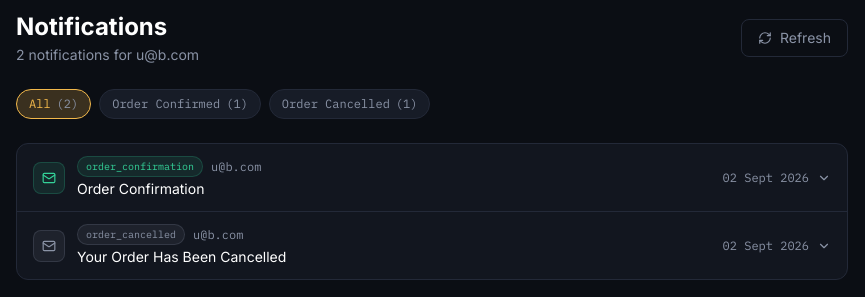
Test case: NotificationsPage — Filter tabs › filters notifications by type when tab is clicked
Expected: the text "Order Confirmation" is shown, [77,180,204,197]
Note: Click "Order Cancelled" filter
Click the button "Order Cancelled(1)". click: (350, 104)
box: [269,89,430,119]
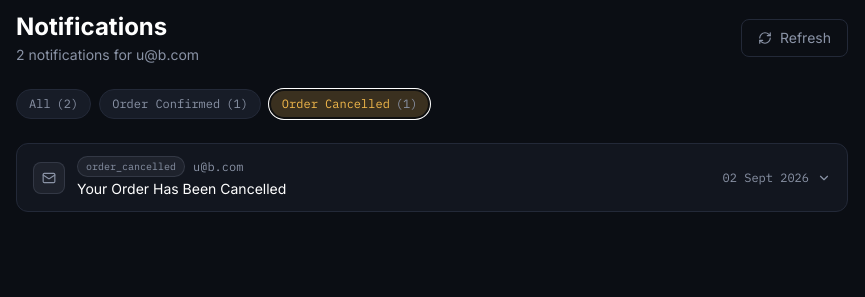
Expected: the text "Your Order Has Been Cancelled" is shown, [77,180,286,197]
Expected: the button "Order Confirmation" is gone
